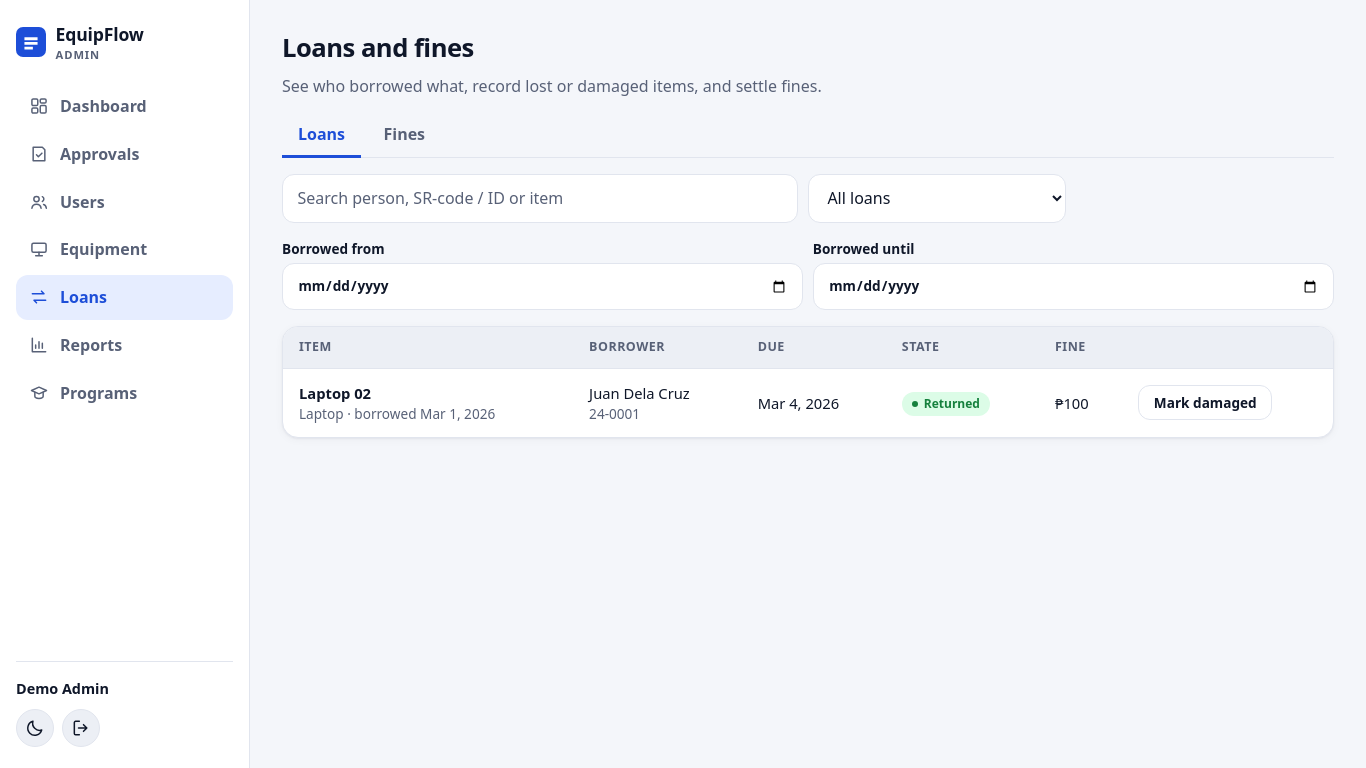
Test: Loans › needs an amount to record damage, then charges that loan
Click the button "Mark damaged" at (1205, 403), box [1138, 385, 1272, 420]
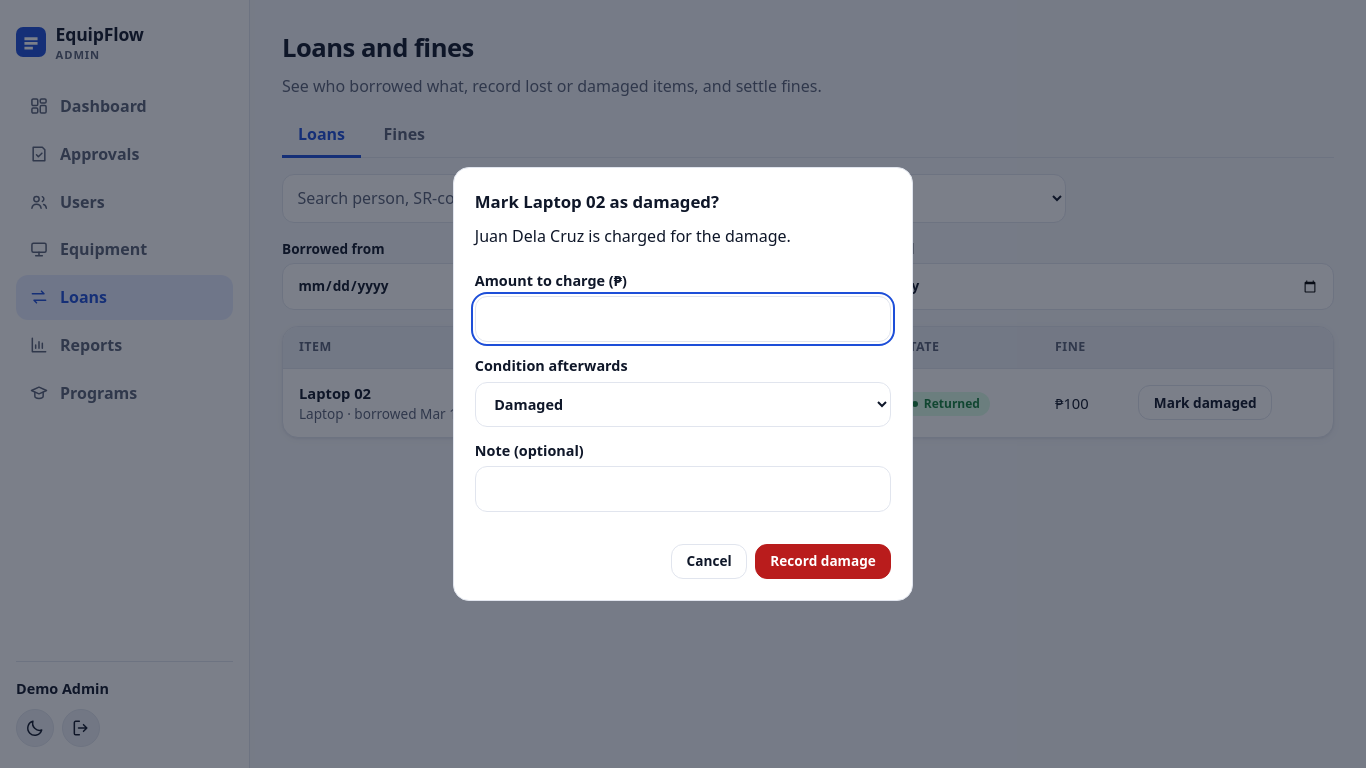
Click the button "Record damage" at (823, 562), box [755, 544, 891, 579]
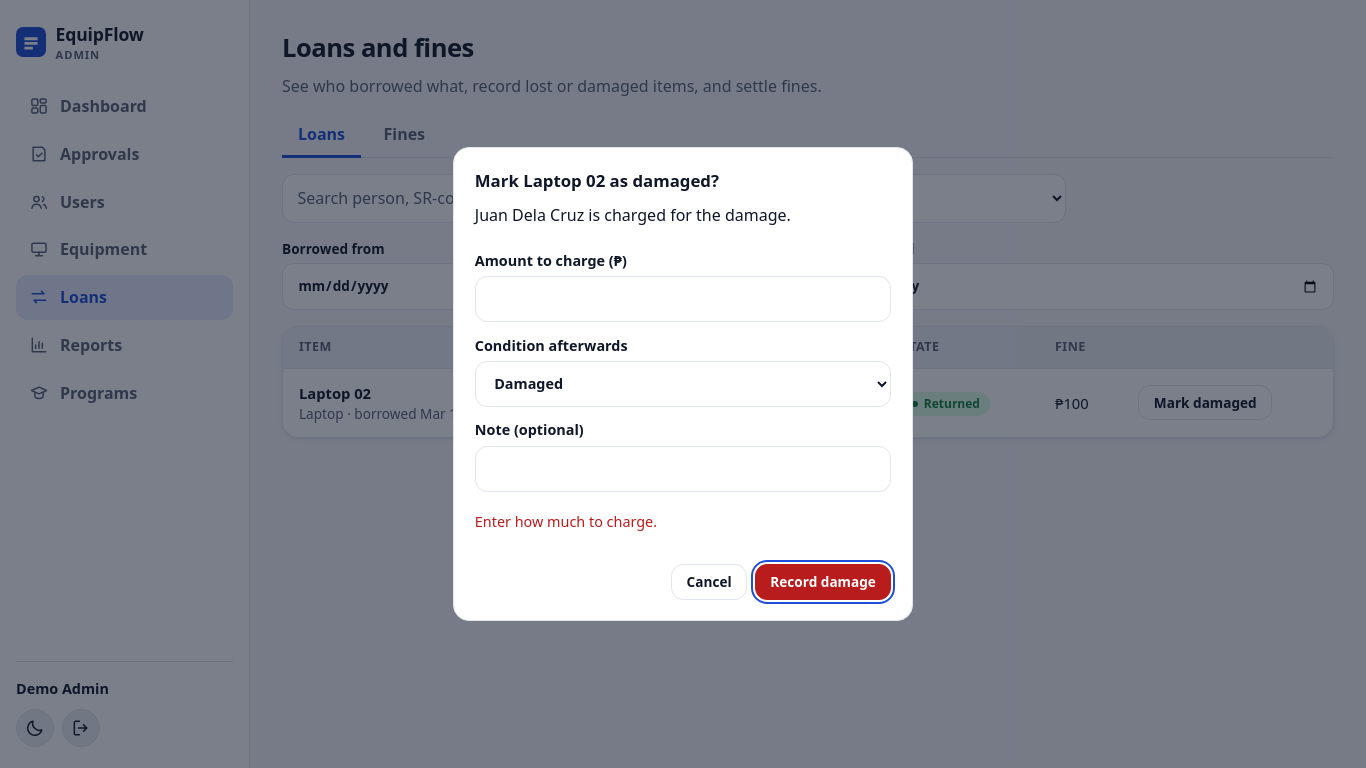
Check: the message reads "Enter how much to charge.", box [475, 512, 657, 531]
Type "250" into the field labelled "Amount to charge (₱)" at (683, 299), box [475, 276, 891, 322]
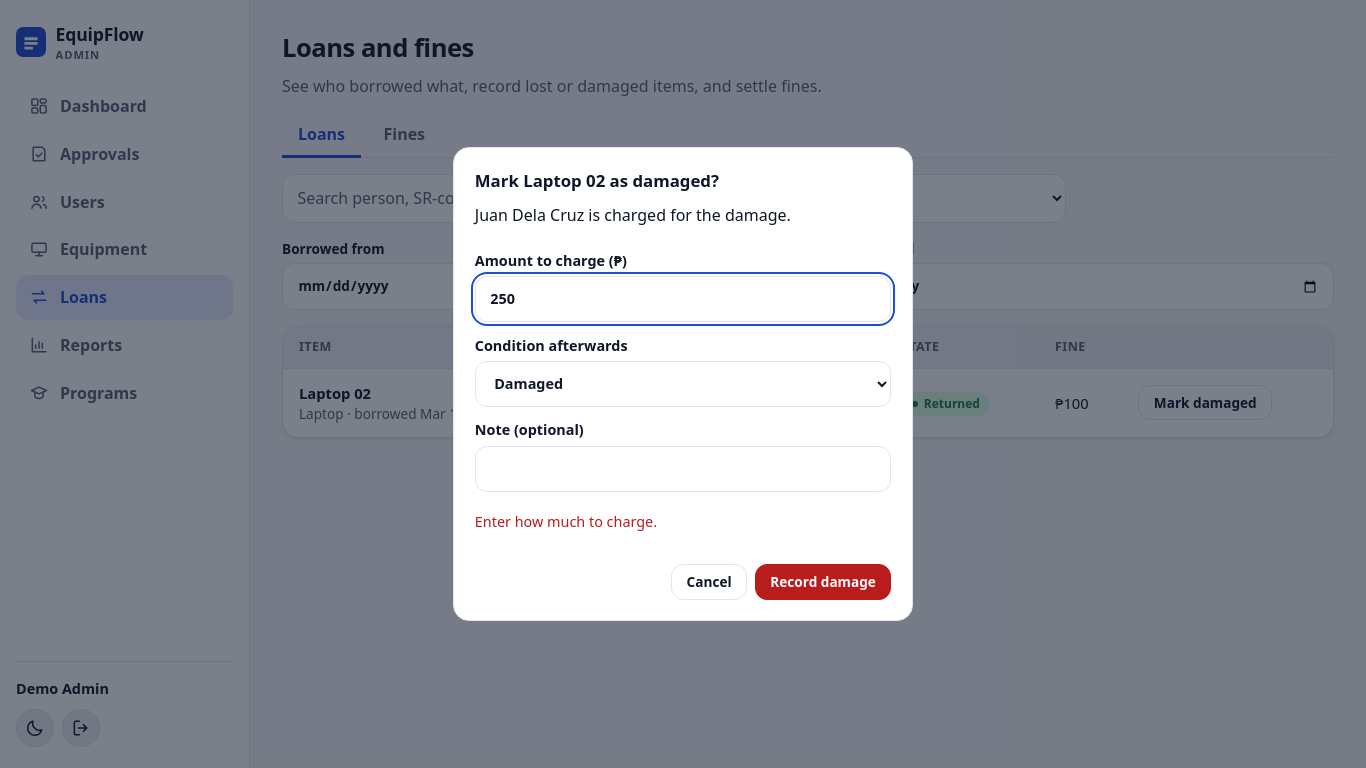
Select "Needs maintenance" in the dropdown labelled "Condition afterwards" at (683, 384), box [475, 361, 891, 406]
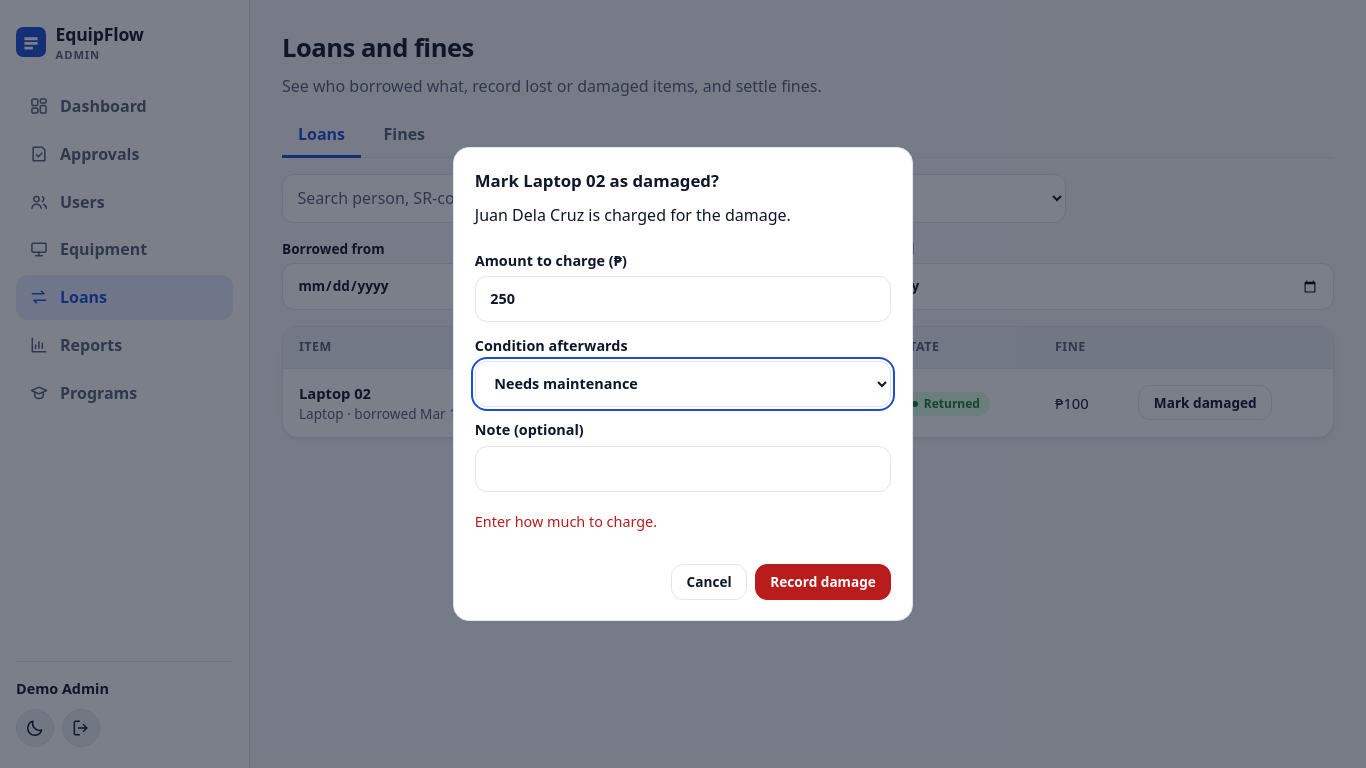
Click the button "Record damage" at (823, 582), box [755, 564, 891, 600]
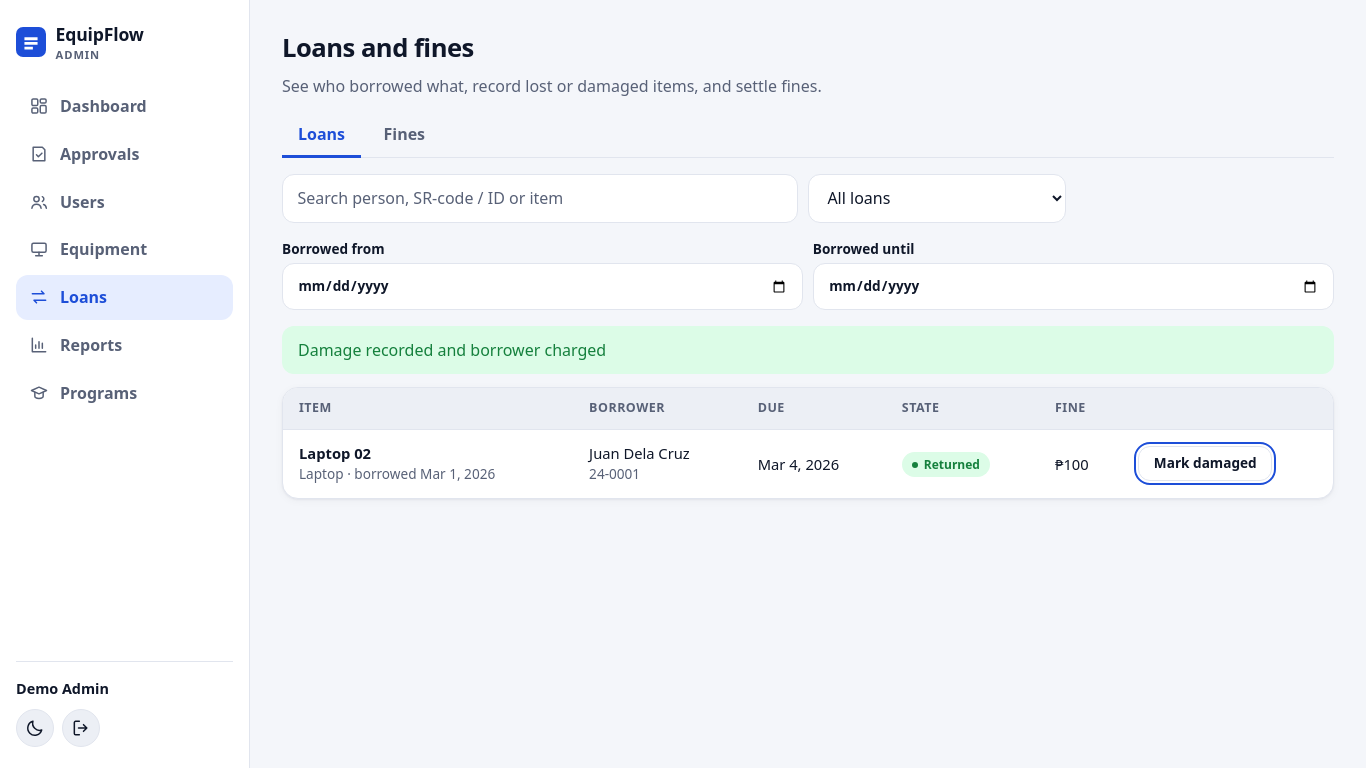
Check: the message reads "Damage recorded and borrower charged", box [298, 339, 606, 361]
